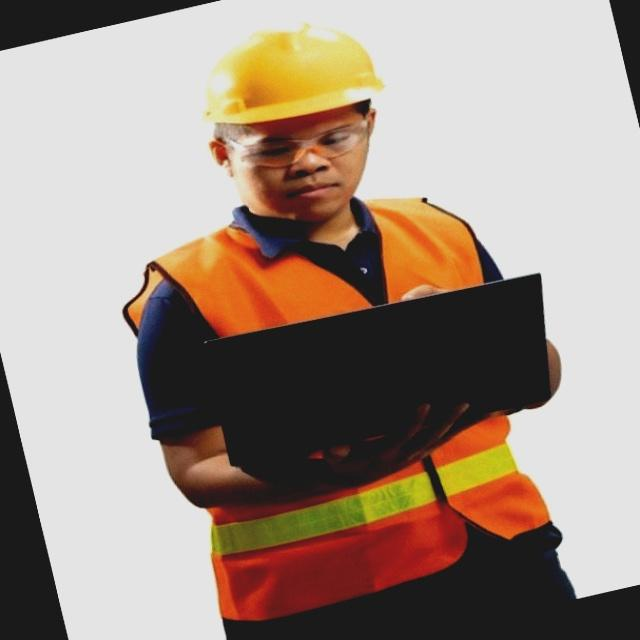helmet: (198, 15, 392, 126)
safety_vest: (129, 201, 582, 620)
